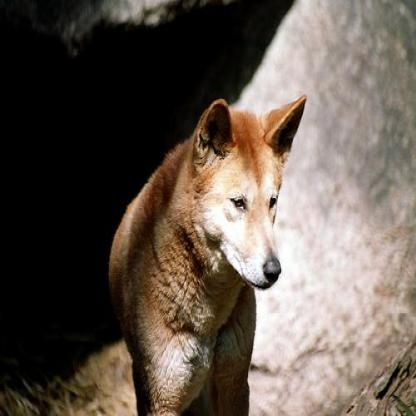dingo: (109, 92, 306, 410)
